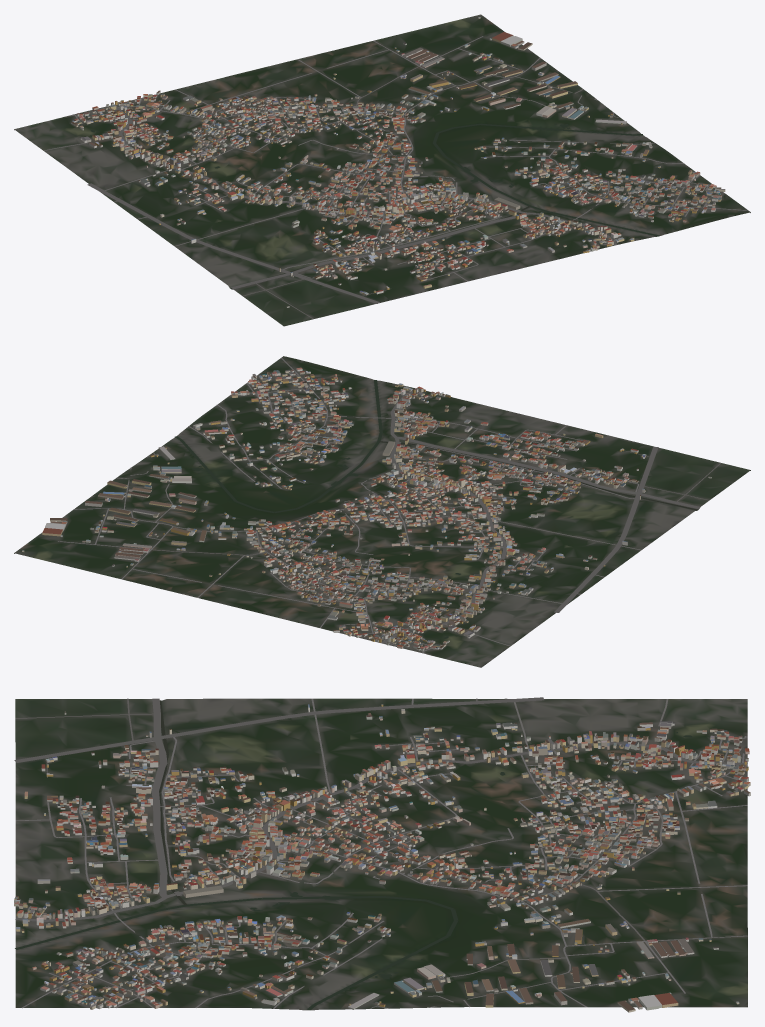
The picture shows the model from 3 angles, top to bottom: view 1: azimuth 30°, elevation 25°; view 2: azimuth 150°, elevation 25°; view 3: azimuth 270°, elevation 25°; orthographic projection. The views are drawn at different scales.
Visible parts, largest first — view 1: ground, buildings, roads, water; view 2: ground, buildings, roads, water; view 3: ground, buildings, roads, water.
Part boxes in pixels (x1=…): ground: x1=14, y1=14, x2=750, y2=326; buildings: x1=71, y1=17, x2=725, y2=307; roads: x1=43, y1=36, x2=748, y2=319; water: x1=90, y1=121, x2=659, y2=288; ground: x1=14, y1=356, x2=750, y2=667; buildings: x1=22, y1=367, x2=711, y2=651; roads: x1=58, y1=357, x2=720, y2=653; water: x1=175, y1=380, x2=697, y2=638; ground: x1=15, y1=698, x2=747, y2=1010; buildings: x1=14, y1=704, x2=750, y2=1012; roads: x1=14, y1=697, x2=747, y2=1008; water: x1=15, y1=700, x2=692, y2=1010.
Bounding box in the file's own units: 1431 × 26.91 × 1411.
